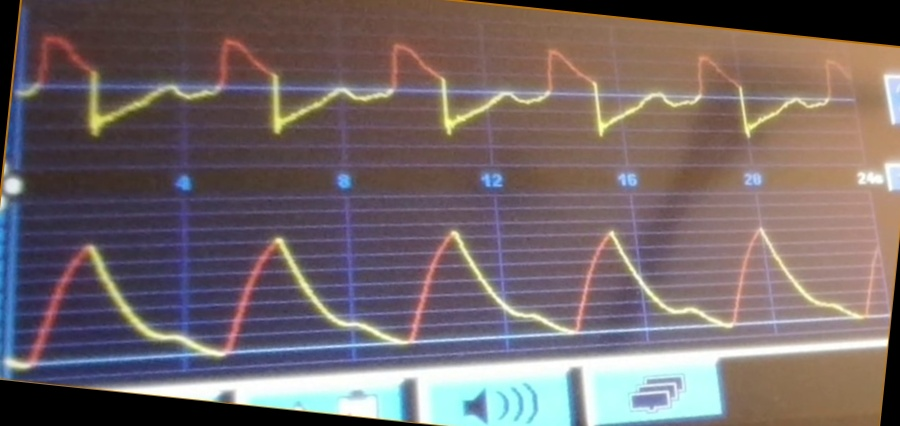Ineffective_effort Flow: (26, 32, 847, 146)
Ineffective_effort Volume: (22, 219, 881, 360)
